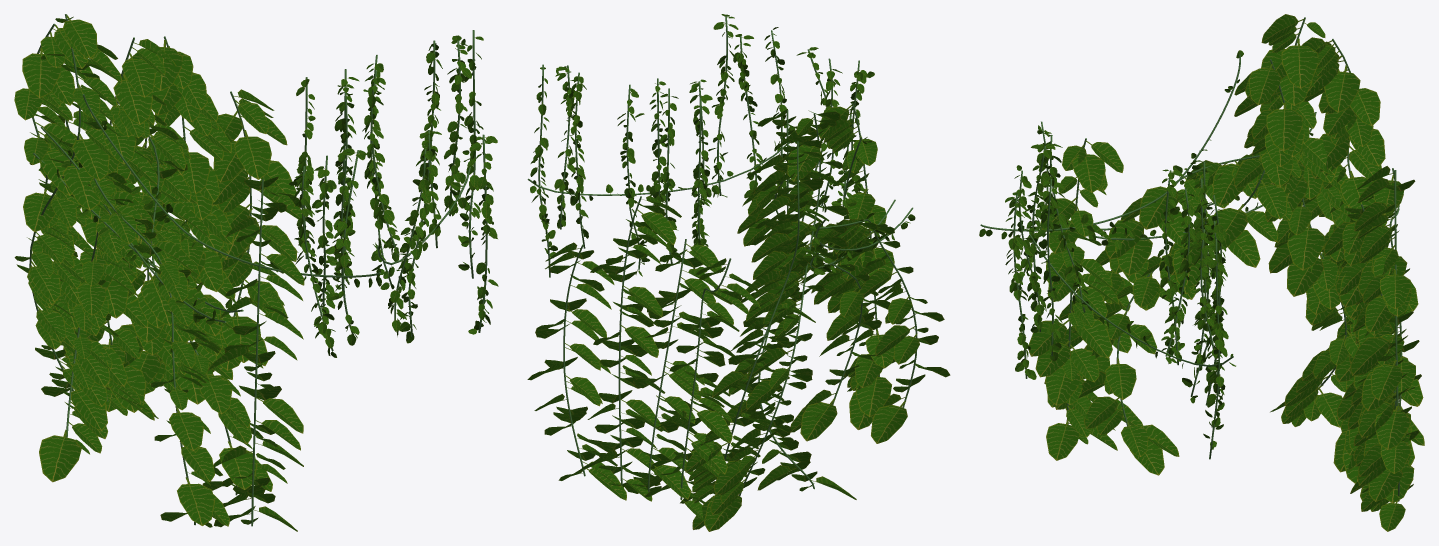
File: AllVines.fbx
3 renders of one model, left to right at view 1: azimuth 30°, elevation 25°; view 2: azimuth 150°, elevation 25°; view 3: azimuth 270°, elevation 25°, orthographic. The views are drawn at different scales.
Visible parts, largest first — view 1: BézierCurve, Vine Roof; view 2: BézierCurve, Vine Roof; view 3: BézierCurve, Vine Roof.
Part boxes in pixels (<box>): BézierCurve: <box>14,14,304,531</box>; Vine Roof: <box>29,30,498,357</box>; BézierCurve: <box>527,103,950,531</box>; Vine Roof: <box>527,14,915,277</box>; BézierCurve: <box>1028,14,1424,531</box>; Vine Roof: <box>979,50,1316,459</box>.
Bounding box in the file's own units: 470 × 502 × 489.
